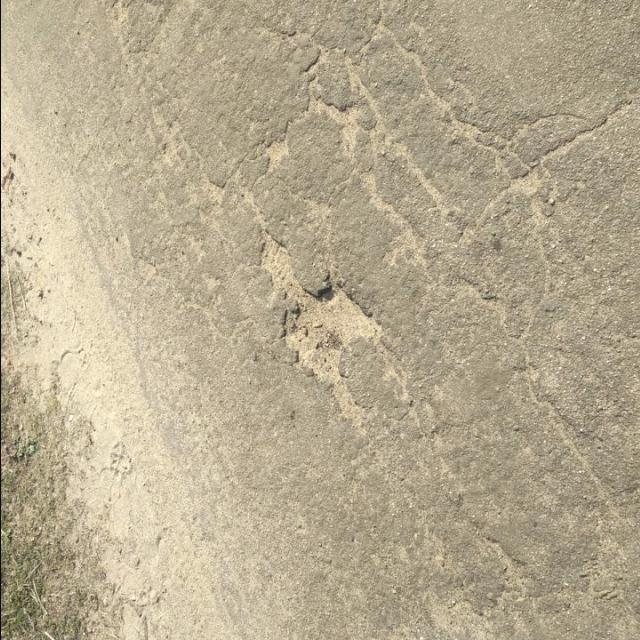pothole: (232, 210, 406, 442)
